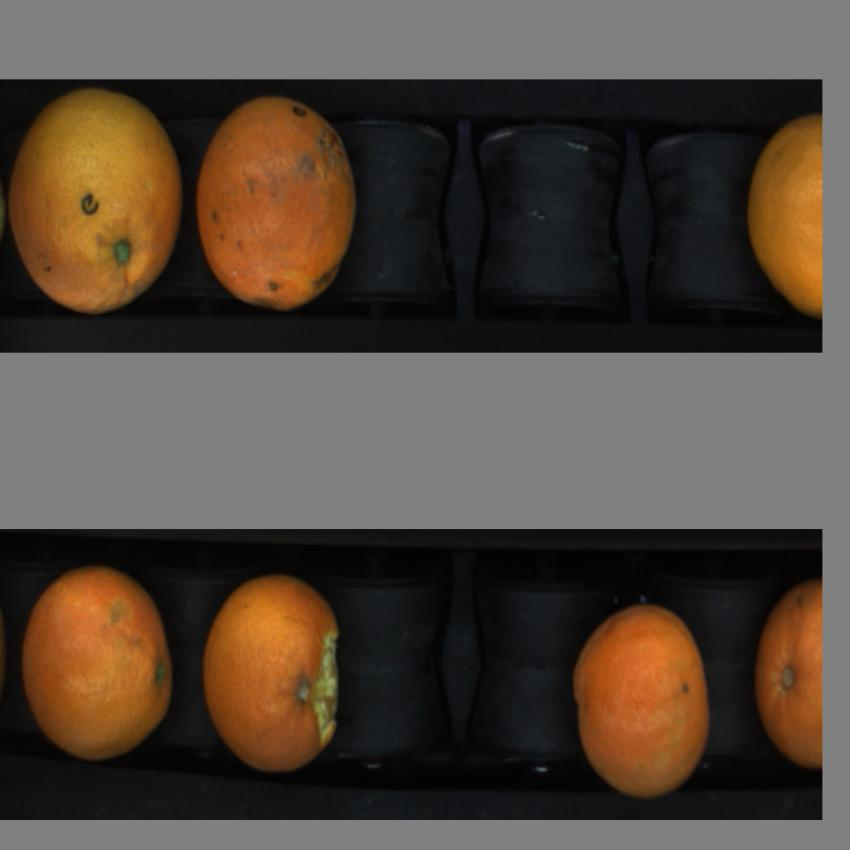Buen estado: (7, 79, 184, 325), (19, 568, 181, 774), (566, 601, 720, 801), (737, 112, 824, 320), (753, 571, 823, 772)
Mal estado: (193, 94, 360, 325), (200, 583, 360, 776)
